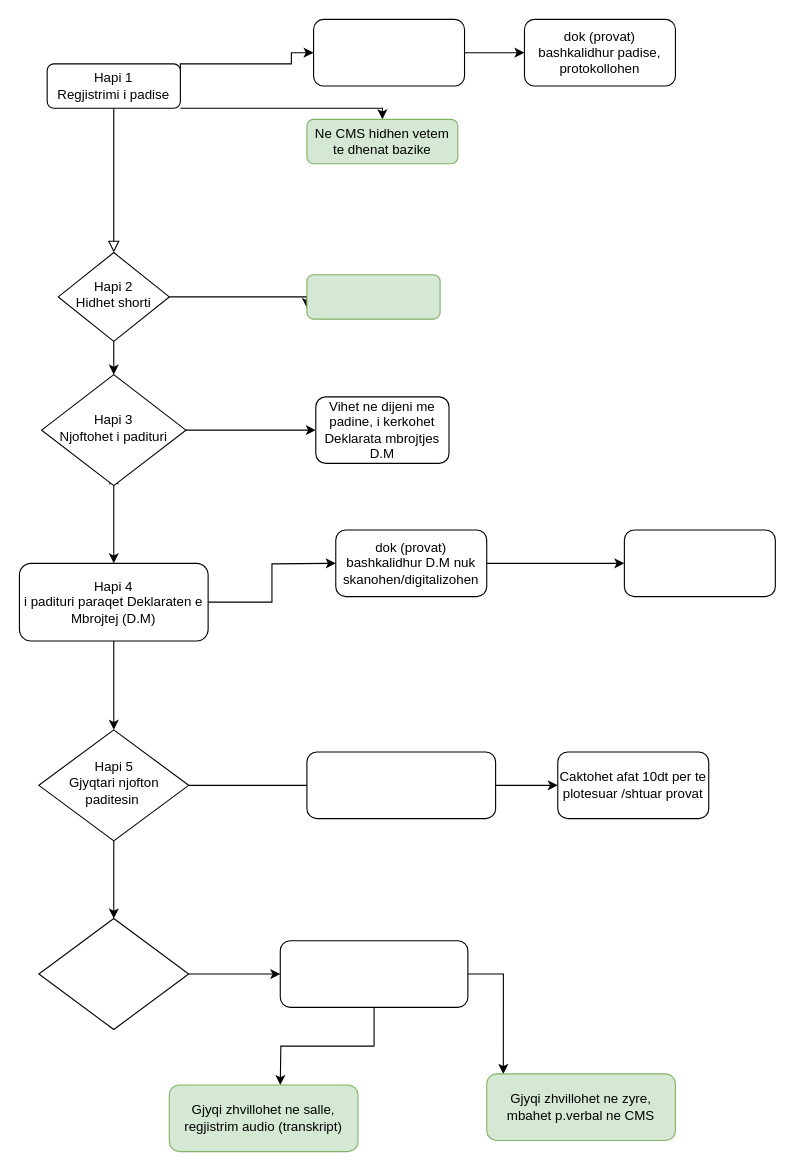
The diagram is 795 pixels wide and 1171 high, and some of its shapes have lost their labels. The centre of each missing label's shape, as x and y in pixels:
Caktohet gjyqtari, hidhet emri ne CMS: point 373,296
dok (provat) bashkalidhur D.M, protokollohen: point 699,563
dok (provat) bashkalidhur padise nuk skanohen/digitalizohen: point 388,52
Hapi 6 Caktohet dt e Gjyqit: point 113,973
te gjitha dok qe shqyrtohen jane hard copy: point 373,973
Vihet ne dijeni me te dhenat bazike dhe bashkalidhur D.M: point 401,785
